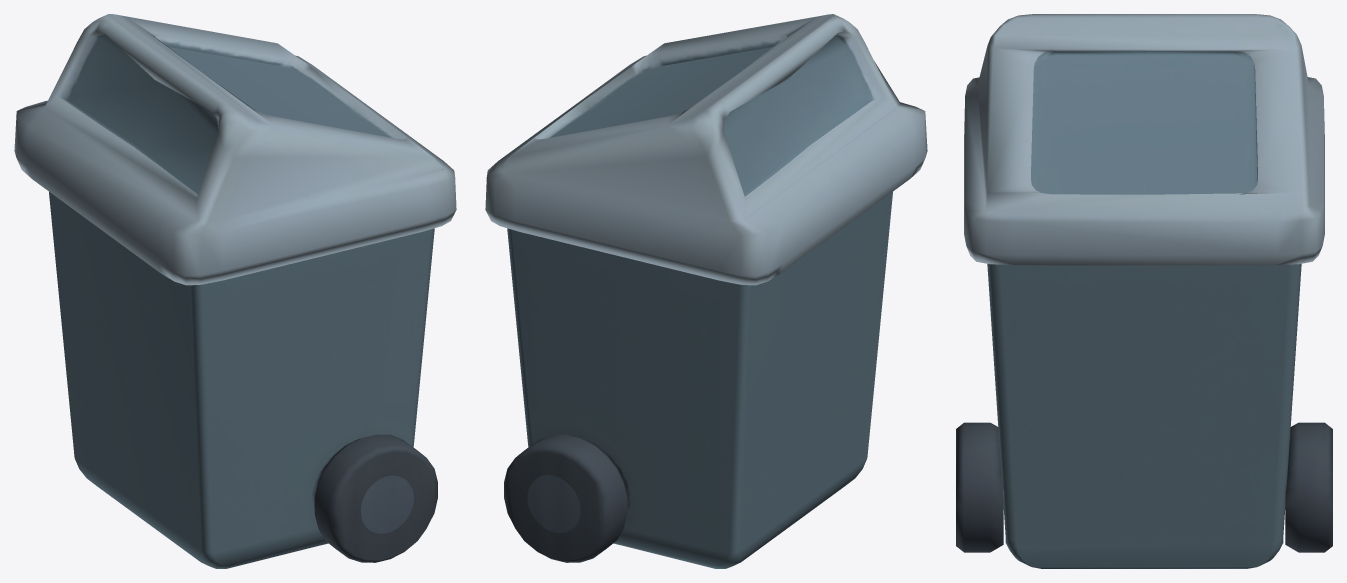
Rendered from bin.glb.
3 renders of one model, left to right at view 1: azimuth 30°, elevation 25°; view 2: azimuth 150°, elevation 25°; view 3: azimuth 270°, elevation 25°, orthographic.
Parts seen in each view (by area): view 1: tripo_node_107c2443-8eb1-4ce5-b7d4-213f29193dae; view 2: tripo_node_107c2443-8eb1-4ce5-b7d4-213f29193dae; view 3: tripo_node_107c2443-8eb1-4ce5-b7d4-213f29193dae.
Part boxes in pixels (x1,y1,x2,y2): tripo_node_107c2443-8eb1-4ce5-b7d4-213f29193dae: (14,14,456,568); tripo_node_107c2443-8eb1-4ce5-b7d4-213f29193dae: (485,14,927,568); tripo_node_107c2443-8eb1-4ce5-b7d4-213f29193dae: (956,14,1332,568).
Bounding box in the file's own units: 0.6426 × 0.998 × 0.7285.
1 material, 1 textured.
